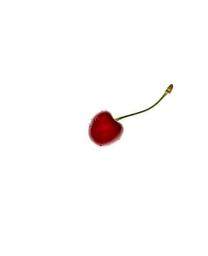cherry: (89, 111, 123, 148)
